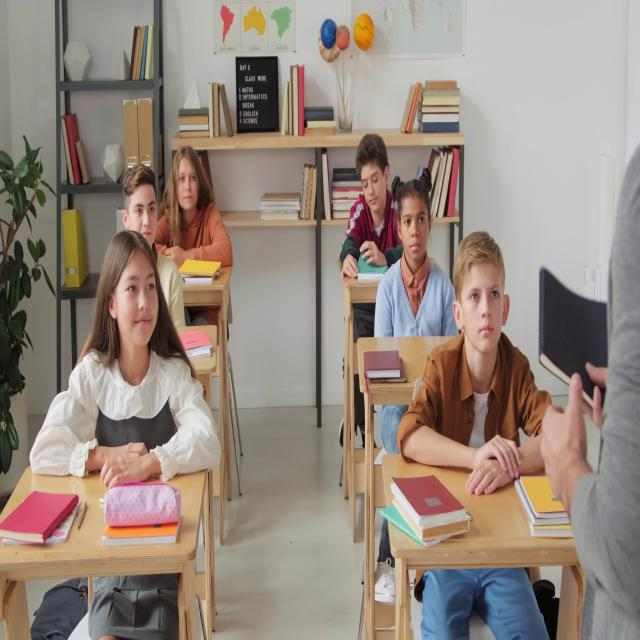listening: (396, 240, 568, 638), (31, 233, 225, 474), (157, 145, 235, 331), (373, 175, 456, 343), (120, 167, 188, 330)
reading: (340, 136, 403, 286)
